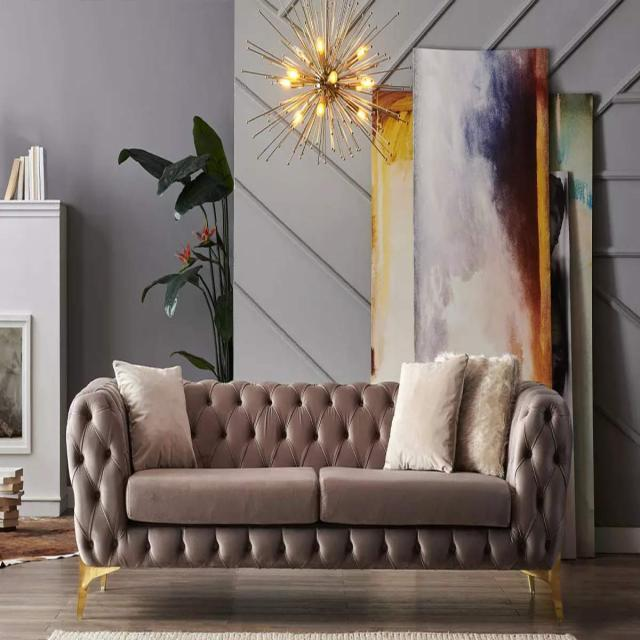sofa: (64, 358, 574, 623)
